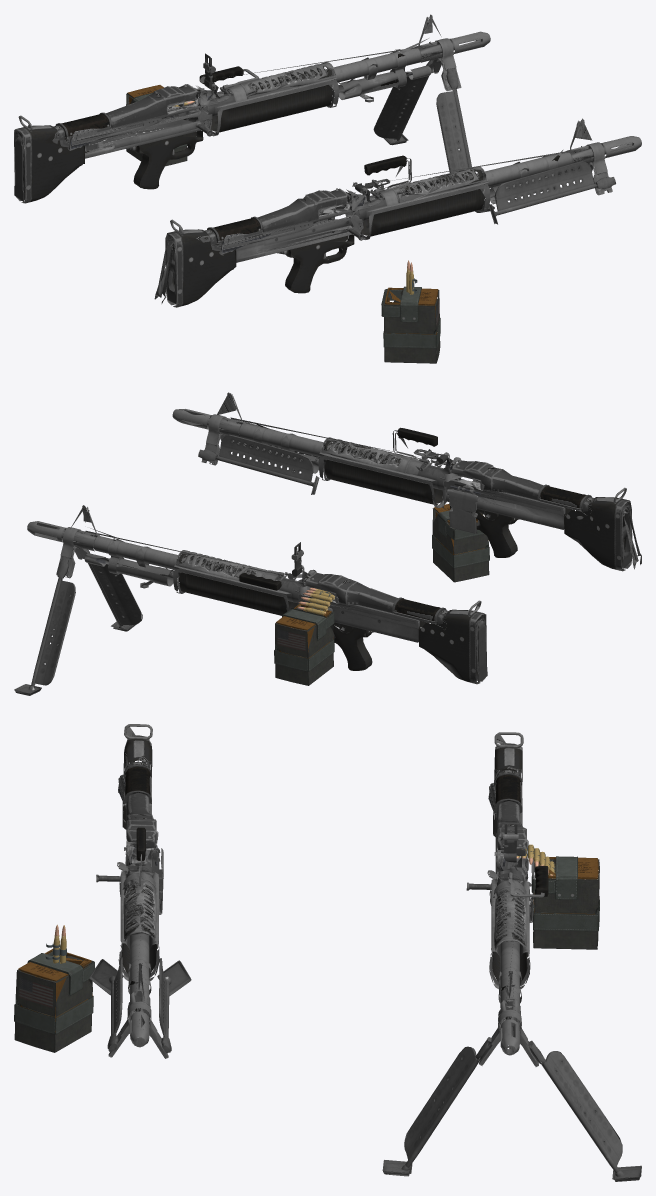
3 views of the same model, one above another, from view 1: azimuth 30°, elevation 25°; view 2: azimuth 150°, elevation 25°; view 3: azimuth 270°, elevation 25° (orthographic). The views are drawn at different scales.
Visible parts, largest first — view 1: polySurface320_body_m_0, polySurface285_body_m_0, polySurface285_bits_m_0, polySurface320_bits_m_0, polySurface346_lambert1_0, polySurface239_body_m_0, polySurface245_body_m_0, polySurface237_body_m_0, polySurface261_lambert1_0, polySurface156_bits_m_0, polySurface248_bits_m_0; view 2: polySurface320_body_m_0, polySurface285_body_m_0, polySurface320_bits_m_0, polySurface285_bits_m_0, polySurface261_lambert1_0, polySurface346_lambert1_0, polySurface245_body_m_0, polySurface239_body_m_0, polySurface321_bits_m_0, polySurface261_bulletsandcasings_0, polySurface248_bits_m_0, polySurface156_bits_m_0; view 3: polySurface320_body_m_0, polySurface346_lambert1_0, polySurface285_body_m_0, polySurface261_lambert1_0, polySurface320_bits_m_0, polySurface285_bits_m_0, polySurface245_body_m_0, polySurface239_body_m_0.
Part boxes in pixels (left/top/right/bottom): polySurface320_body_m_0: left=165, top=151, right=615, bottom=307; polySurface285_body_m_0: left=14, top=62, right=338, bottom=203; polySurface285_bits_m_0: left=17, top=14, right=490, bottom=155; polySurface320_bits_m_0: left=154, top=118, right=641, bottom=303; polySurface346_lambert1_0: left=381, top=286, right=440, bottom=363; polySurface239_body_m_0: left=436, top=68, right=494, bottom=212; polySurface245_body_m_0: left=373, top=61, right=429, bottom=145; polySurface237_body_m_0: left=113, top=121, right=212, bottom=148; polySurface261_lambert1_0: left=126, top=85, right=187, bottom=166; polySurface156_bits_m_0: left=14, top=136, right=24, bottom=201; polySurface248_bits_m_0: left=199, top=66, right=258, bottom=89; polySurface320_body_m_0: left=198, top=421, right=632, bottom=571; polySurface285_body_m_0: left=173, top=550, right=486, bottom=684; polySurface320_bits_m_0: left=172, top=392, right=641, bottom=569; polySurface285_bits_m_0: left=27, top=505, right=483, bottom=638; polySurface261_lambert1_0: left=274, top=603, right=334, bottom=685; polySurface346_lambert1_0: left=432, top=504, right=489, bottom=582; polySurface245_body_m_0: left=14, top=558, right=75, bottom=695; polySurface239_body_m_0: left=87, top=549, right=142, bottom=631; polySurface321_bits_m_0: left=447, top=489, right=478, bottom=533; polySurface261_bulletsandcasings_0: left=291, top=587, right=334, bottom=628; polySurface248_bits_m_0: left=236, top=566, right=284, bottom=590; polySurface156_bits_m_0: left=477, top=621, right=487, bottom=682; polySurface320_body_m_0: left=89, top=735, right=191, bottom=1053; polySurface346_lambert1_0: left=14, top=949, right=94, bottom=1052; polySurface285_body_m_0: left=489, top=743, right=530, bottom=989; polySurface261_lambert1_0: left=531, top=856, right=599, bottom=949; polySurface320_bits_m_0: left=108, top=724, right=168, bottom=1058; polySurface285_bits_m_0: left=479, top=732, right=538, bottom=1066; polySurface245_body_m_0: left=528, top=1040, right=641, bottom=1181; polySurface239_body_m_0: left=382, top=1037, right=491, bottom=1176.
Bounding box in the file's own units: 1.4 × 0.4922 × 1.29.
5 materials, 5 textured.
